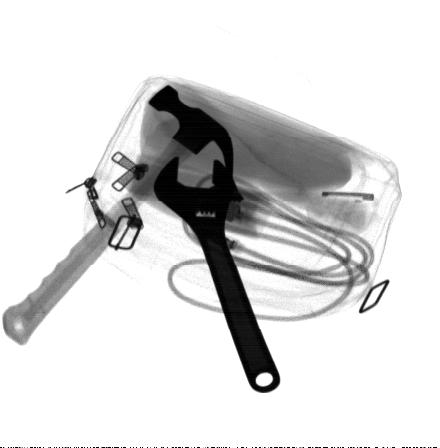Hammer: (2, 83, 236, 348)
Wrench: (152, 154, 281, 394)
